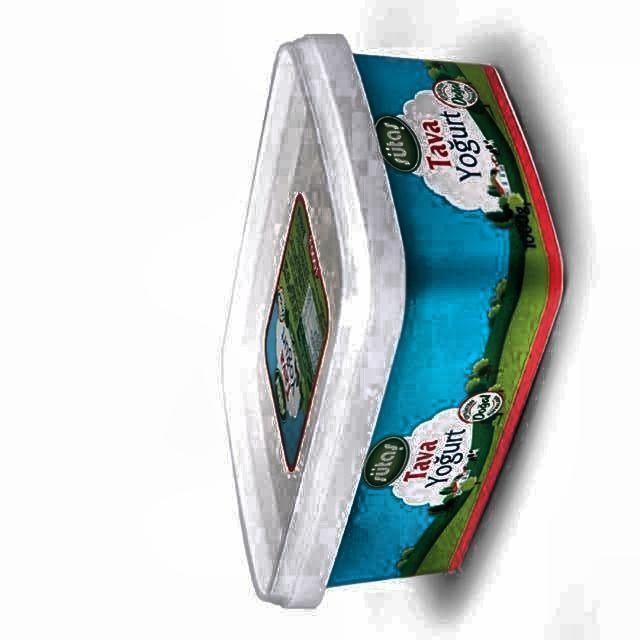plastic: (224, 35, 562, 608)
